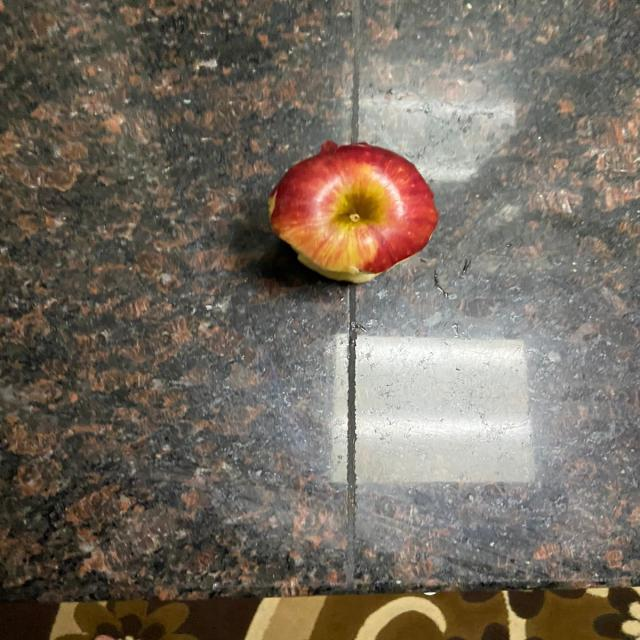apple: (274, 144, 442, 286)
